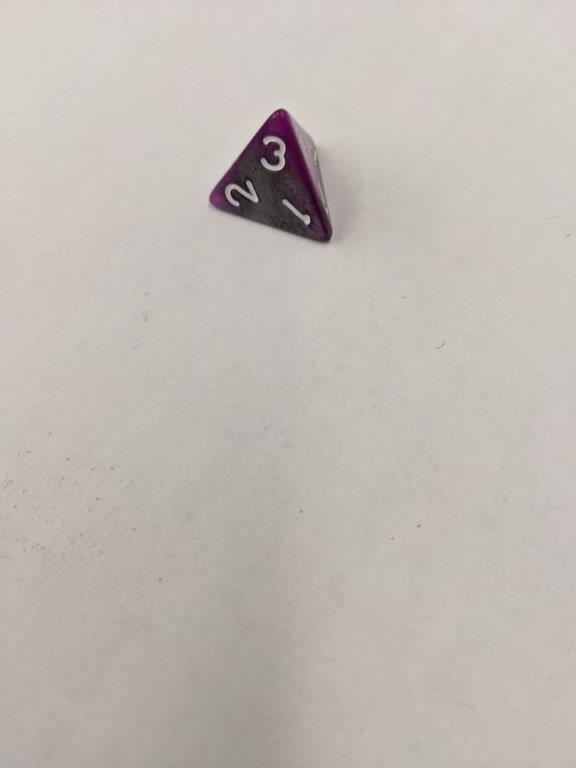d4-3: (199, 107, 337, 252)
